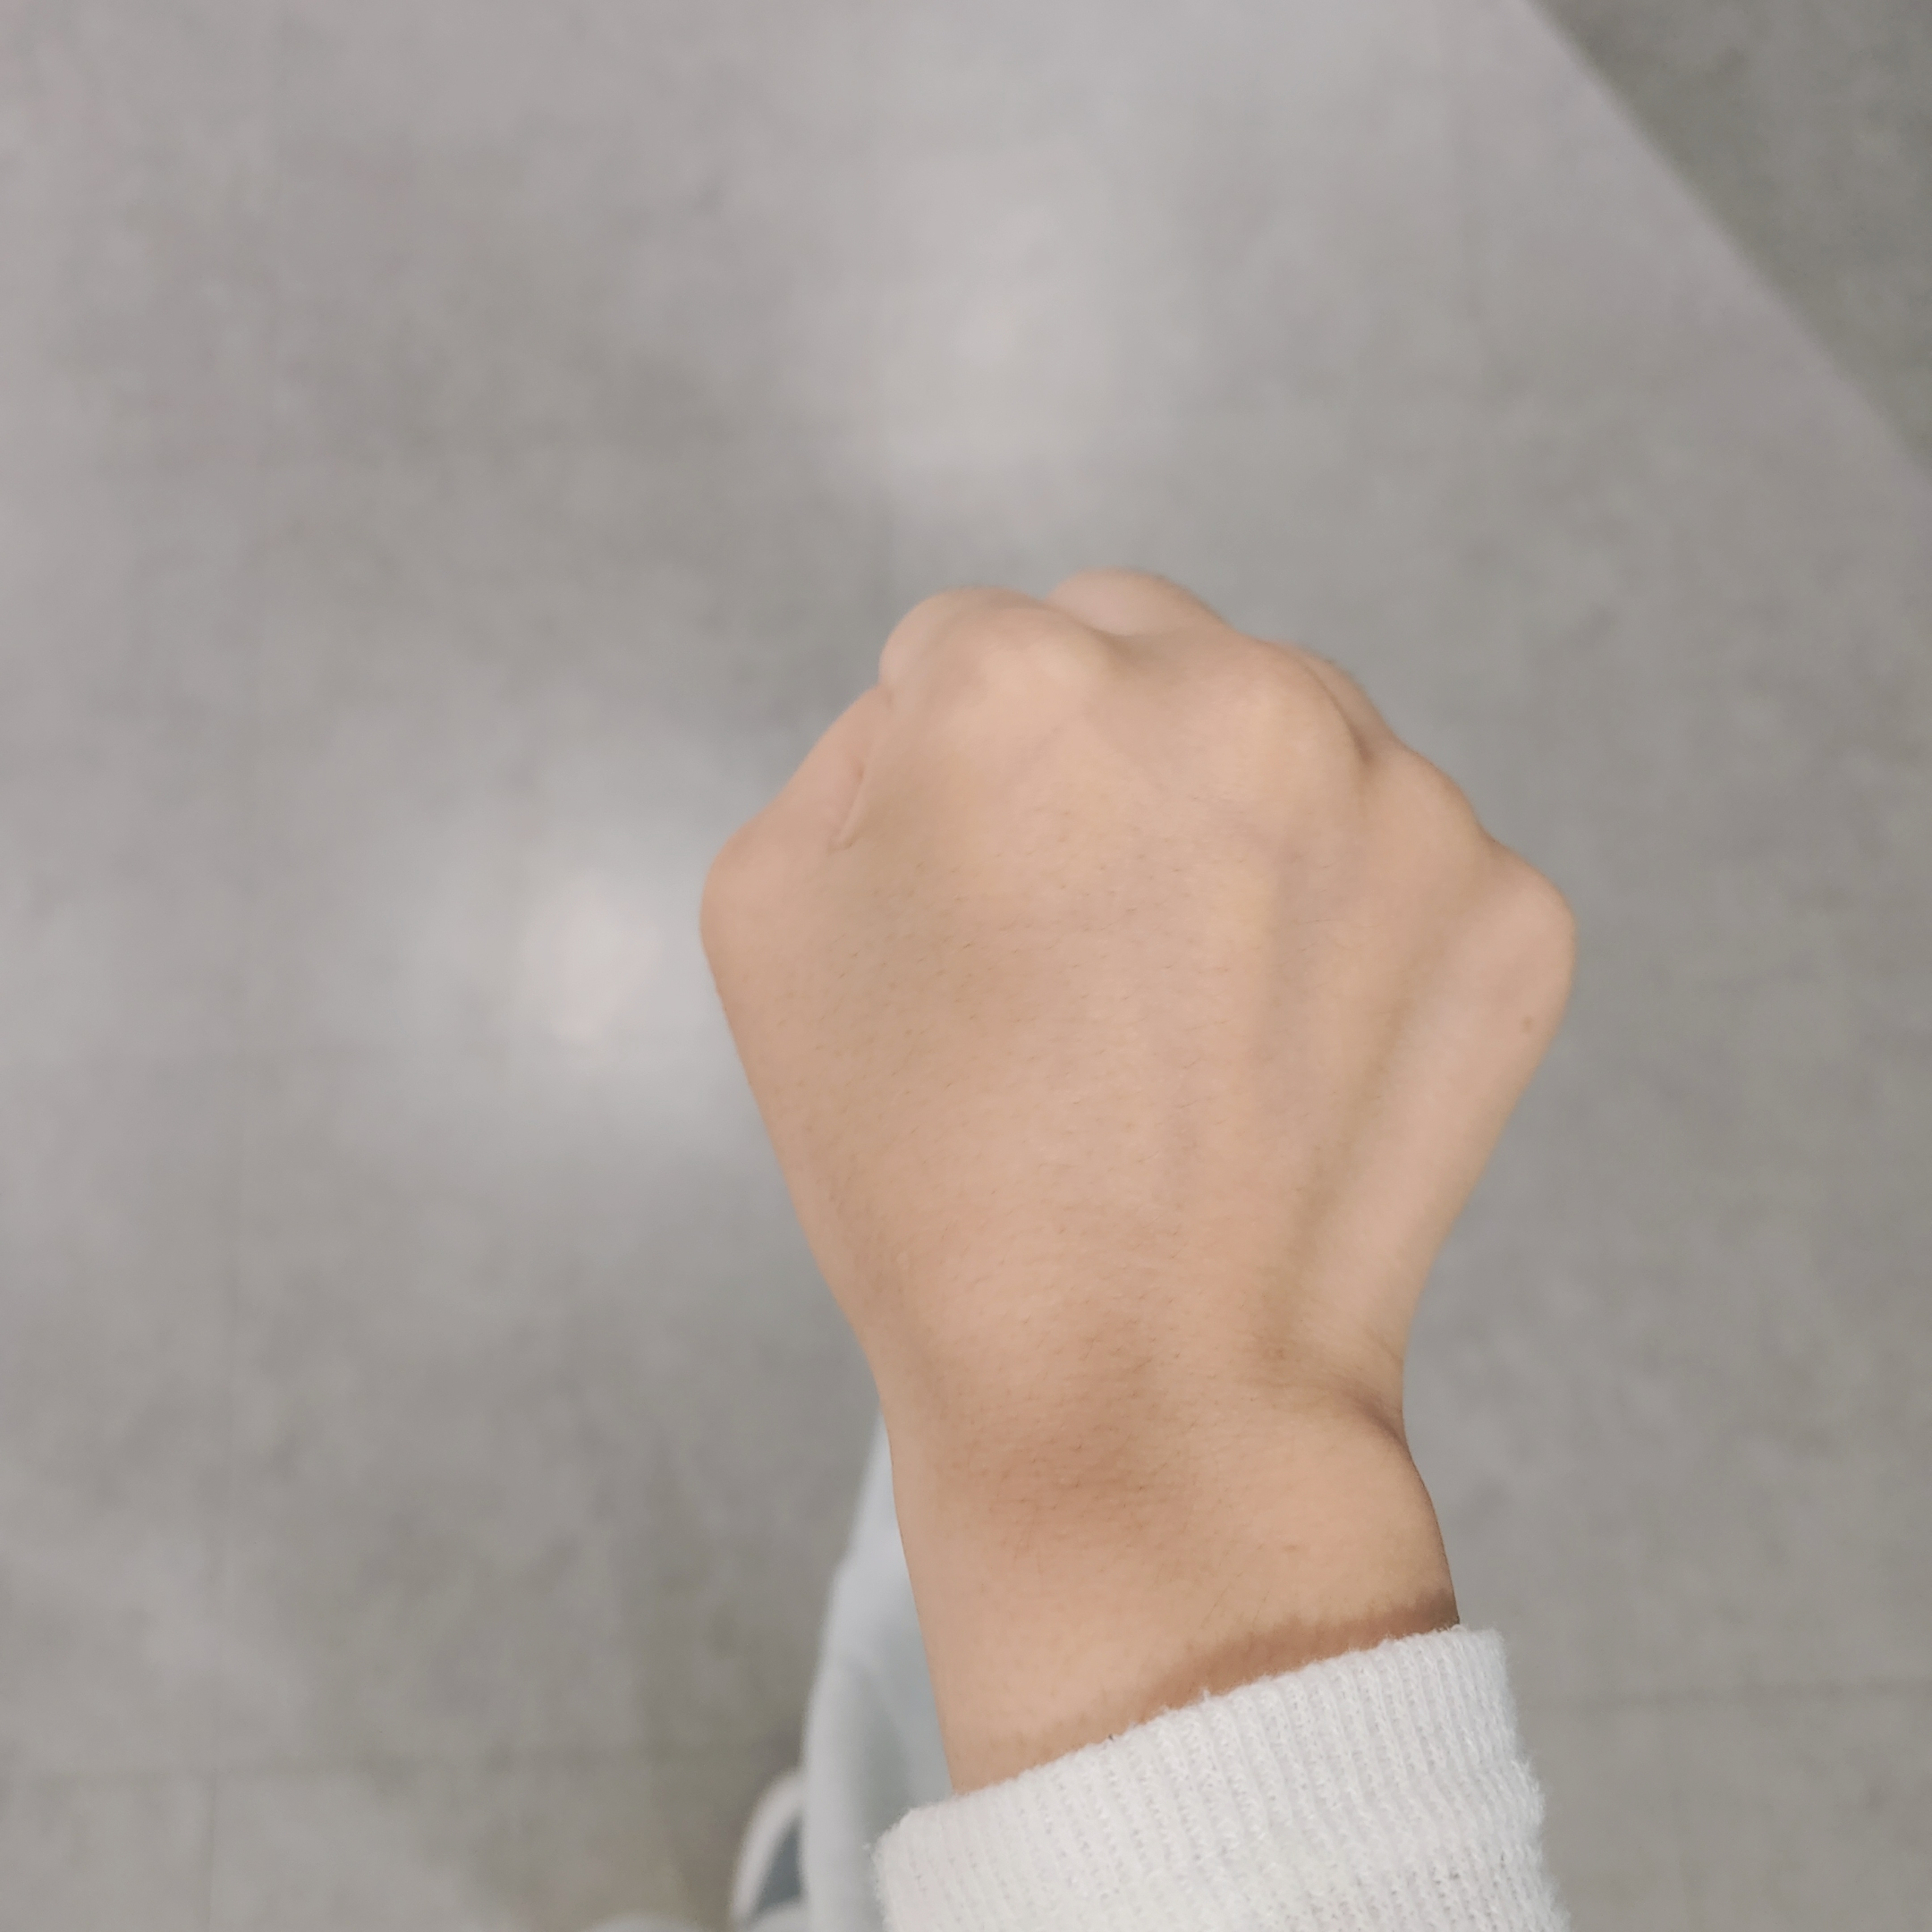smile: (706, 557, 1575, 1426)
